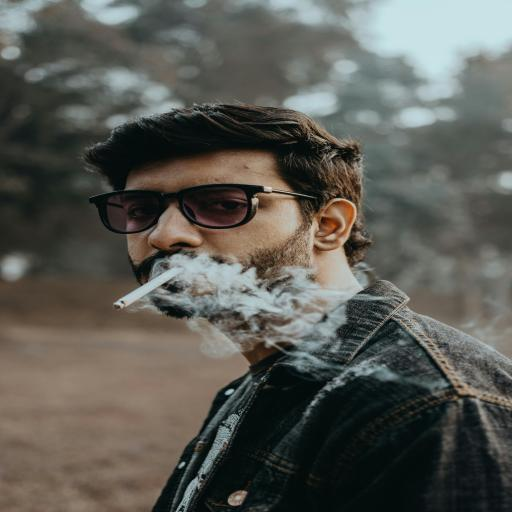terdeteksi merokok: (96, 156, 267, 336)
